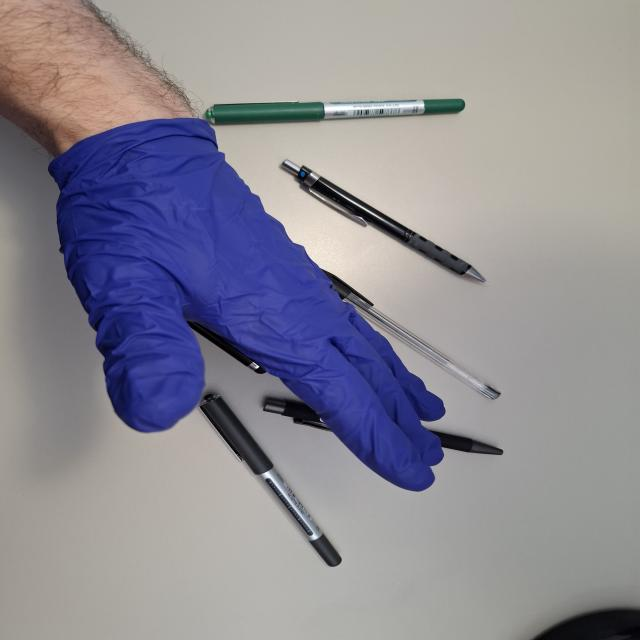glove_on: (43, 108, 450, 496)
